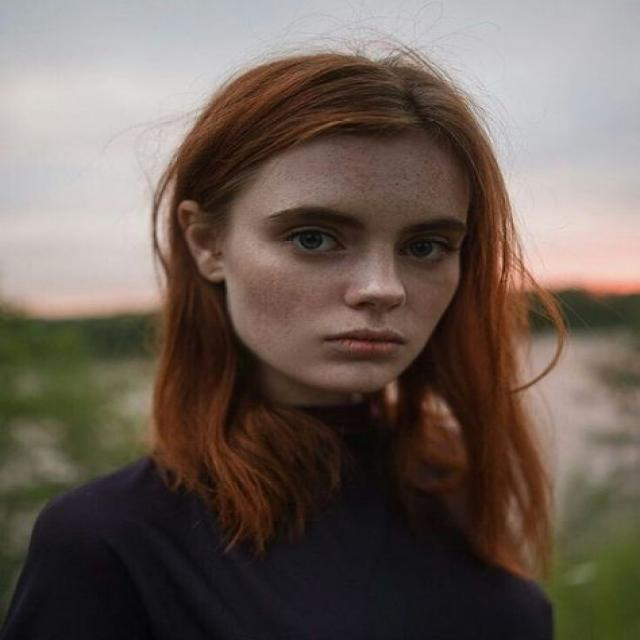earlobe: (200, 253, 227, 283)
eye: (284, 228, 348, 258), (399, 236, 454, 264)
nose: (350, 298, 410, 328)
wholeear: (176, 200, 228, 283)
